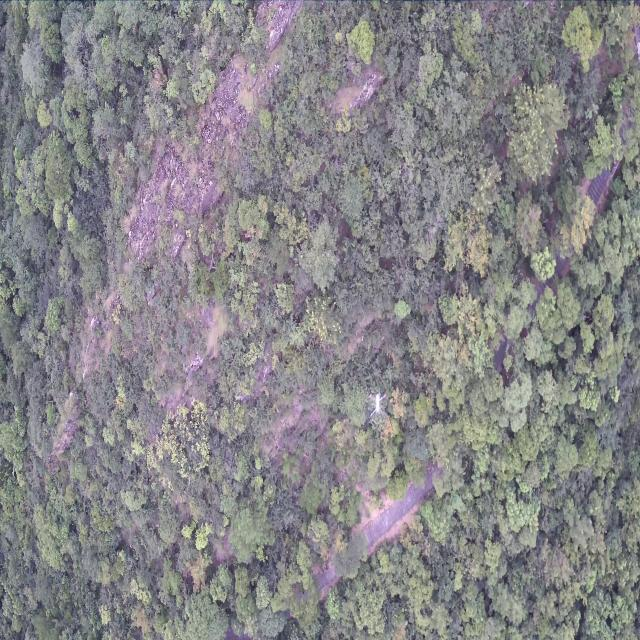UAV: (368, 391, 387, 420)
